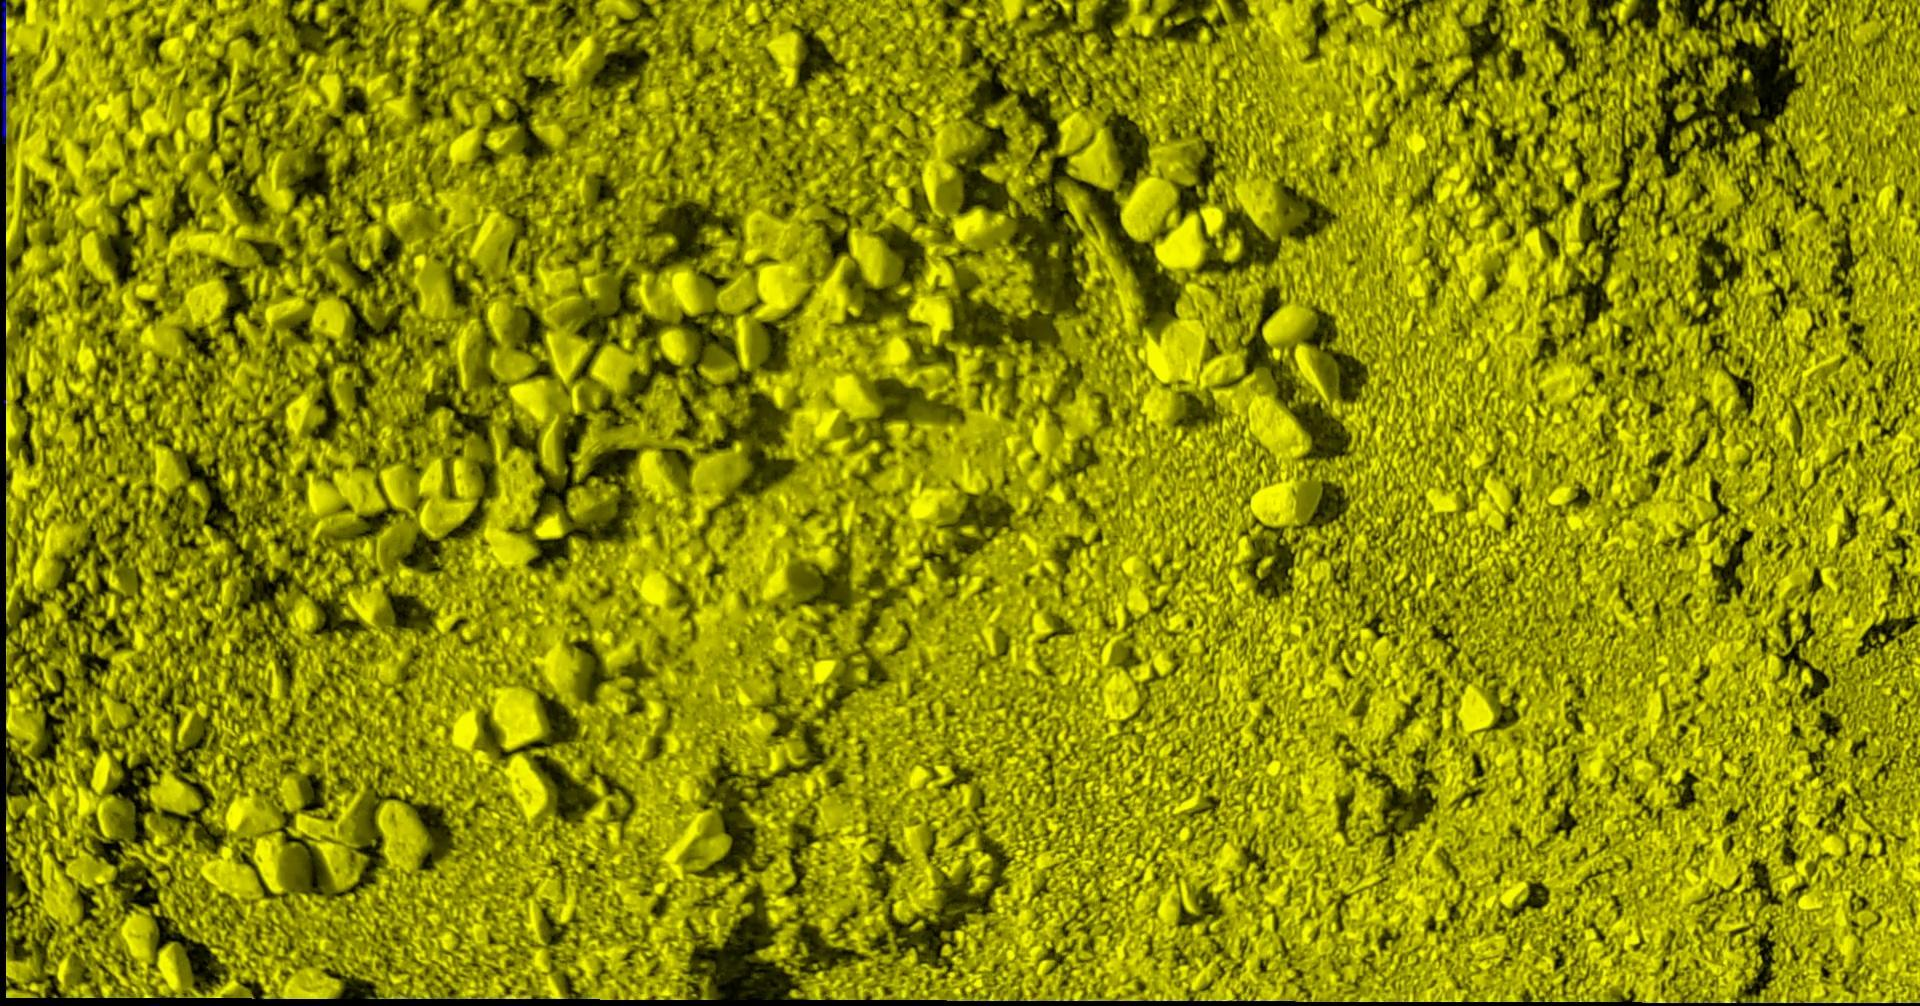ant: (0, 0, 6, 144)
